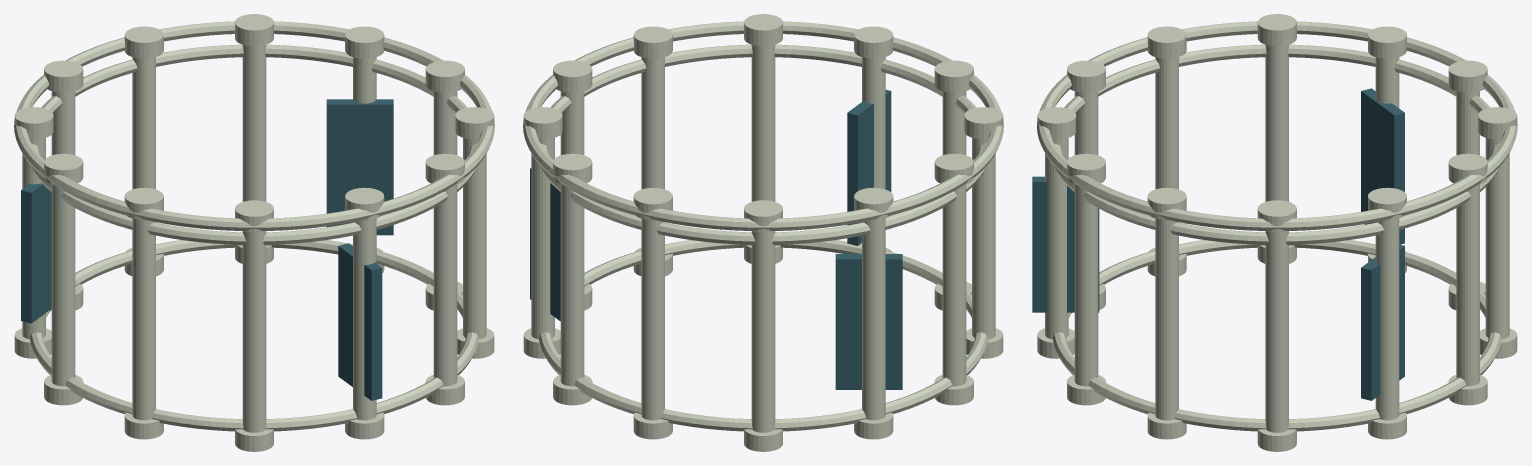
File: mage_guild.glb
3 renders of one model, left to right at view 1: azimuth 30°, elevation 25°; view 2: azimuth 150°, elevation 25°; view 3: azimuth 270°, elevation 25°, orthographic.
Visible parts, largest first — view 1: Guild fluted limestone column; view 2: Guild fluted limestone column; view 3: Guild fluted limestone column.
Boxes of the visible parts, x1,y1,x2,y2 form: Guild fluted limestone column: (14, 14, 494, 451); Guild fluted limestone column: (523, 14, 1003, 451); Guild fluted limestone column: (1032, 14, 1517, 451).
Size of the model in its own units: 4.67 by 2.52 by 4.71.
